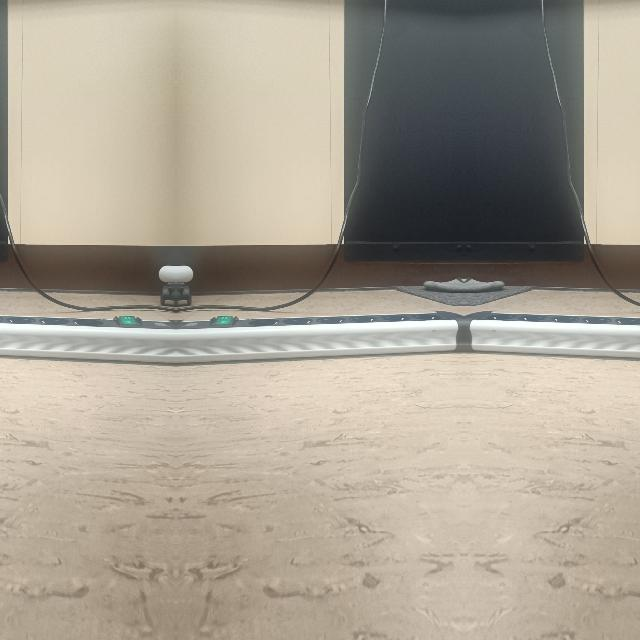obstacle: (174, 315, 463, 365), (463, 315, 640, 365), (0, 315, 175, 365), (175, 258, 198, 308), (152, 258, 175, 308)
